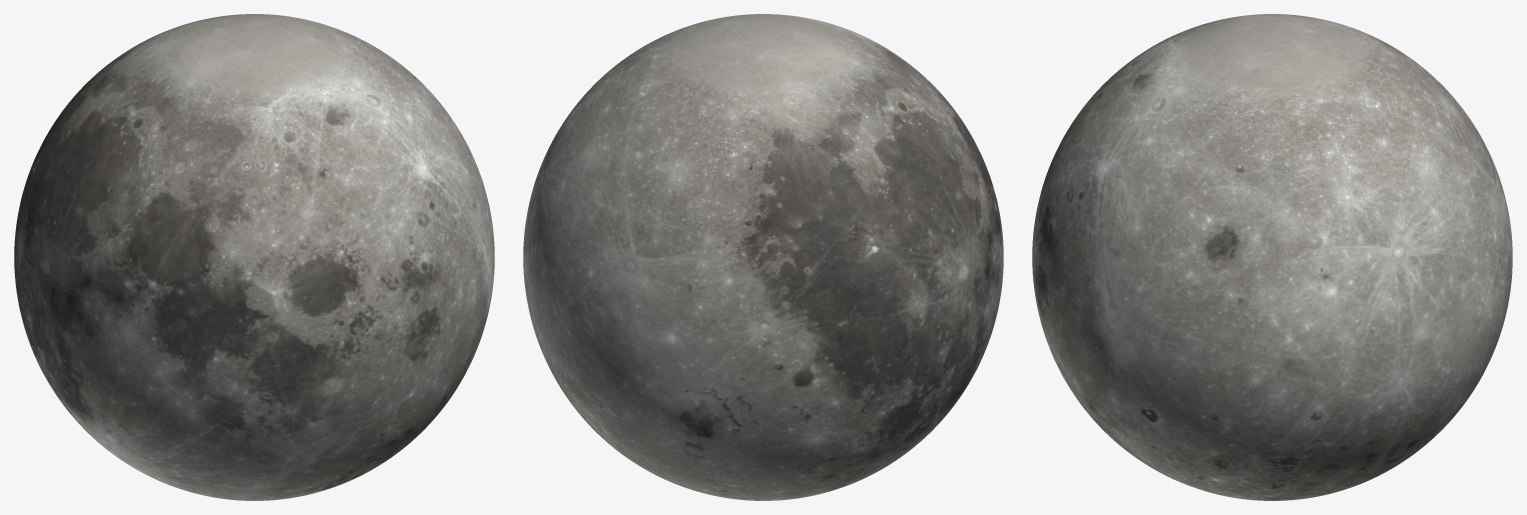
File: moon_opt.glb
3 renders of one model, left to right at view 1: azimuth 30°, elevation 25°; view 2: azimuth 150°, elevation 25°; view 3: azimuth 270°, elevation 25°, orthographic.
Parts seen in each view (by area): view 1: pSphere1; view 2: pSphere1; view 3: pSphere1.
Boxes of the visible parts, <box> form: pSphere1: <box>14,14,494,500</box>; pSphere1: <box>523,14,1003,500</box>; pSphere1: <box>1032,14,1512,500</box>.
Bounding box in the file's own units: 14.38 × 14.65 × 14.38.
Materials: 1 (1 with a texture image).
